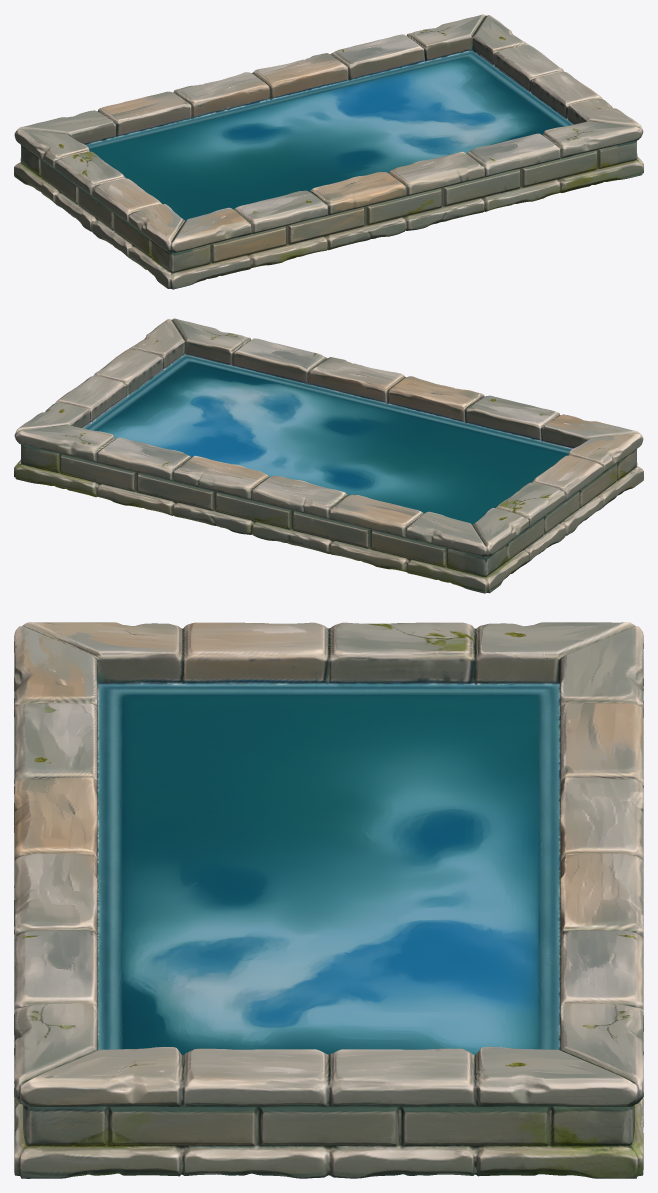
The model's file is Meshy_AI_model.fbx.
3 views of the same model, one above another, from view 1: azimuth 30°, elevation 25°; view 2: azimuth 150°, elevation 25°; view 3: azimuth 270°, elevation 25° (orthographic). The views are drawn at different scales.
Parts seen in each view (by area): view 1: mesh_node; view 2: mesh_node; view 3: mesh_node.
Part boxes in pixels (x1=…): mesh_node: x1=14, y1=14, x2=643, y2=289; mesh_node: x1=14, y1=318, x2=643, y2=593; mesh_node: x1=14, y1=622, x2=643, y2=1178.
Bounding box in the file's own units: 190 × 18.53 × 109.
1 material, 1 textured.
